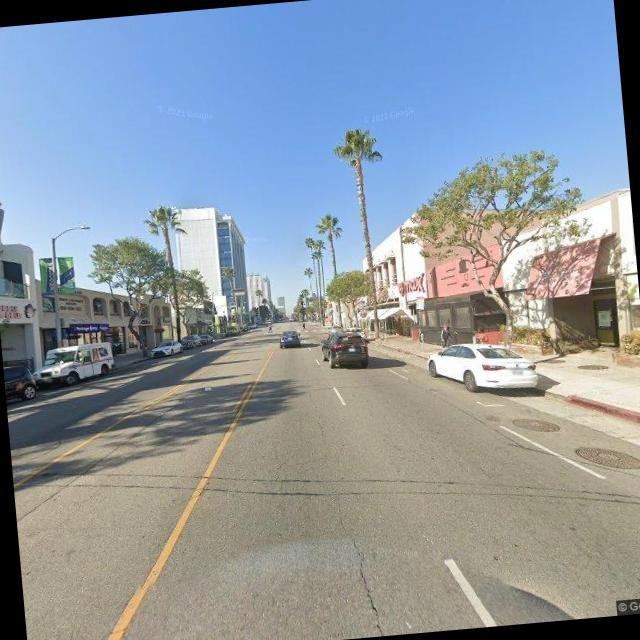pothole: (333, 506, 388, 638)
